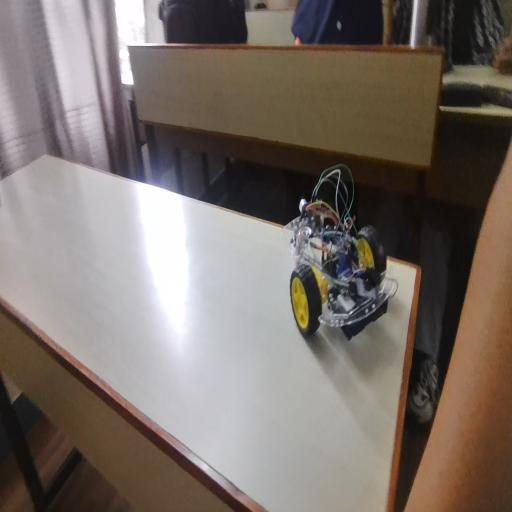car: (290, 173, 373, 358)
